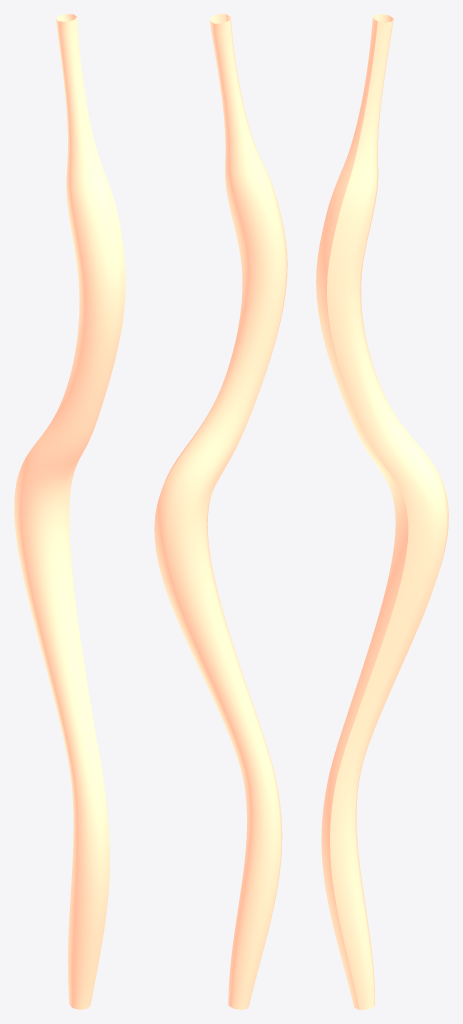
The model's file is strand_b_danger.glb.
3 renders of one model, left to right at view 1: azimuth 90°, elevation 25°; view 2: azimuth 150°, elevation 25°; view 3: azimuth 330°, elevation 25°, orthographic.
Size of the model in its own units: 0.8333 by 8.02 by 0.8248.
